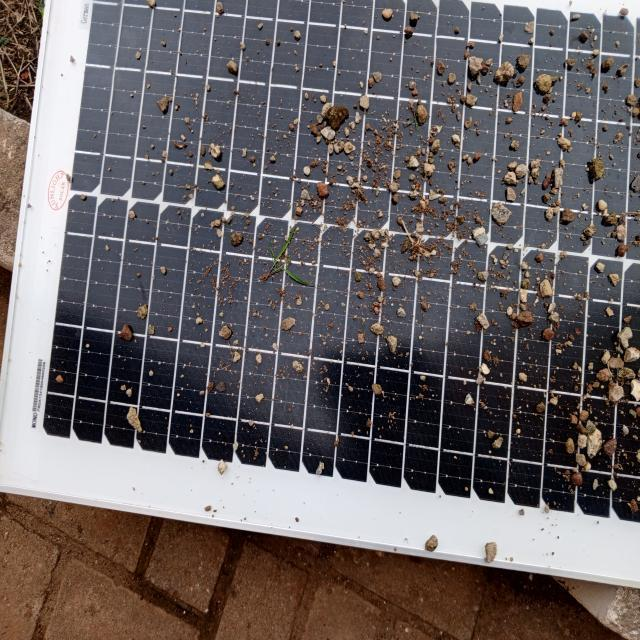Surface Contaminant: (71, 5, 639, 487)
